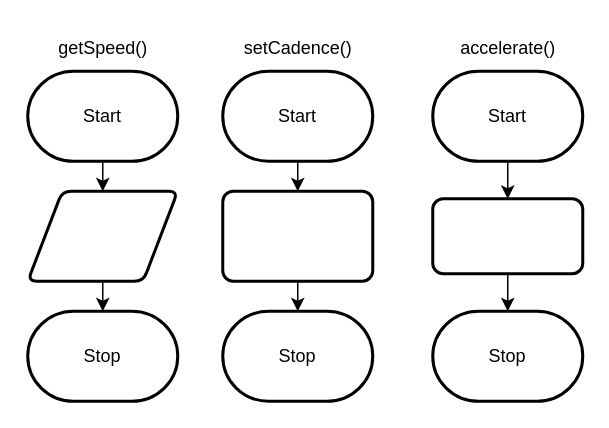
Some shapes in this 609 by 428 pixel diagram are drawn without their labels. The centre of each missing label's shape, as x and y in pixels:
"return this.cadence * 2" belongs at pixel 102 235.
"this.cadence = newCadence" belongs at pixel 297 235.
"this.cadence = this.cadence + appliedNumber" belongs at pixel 507 235.
